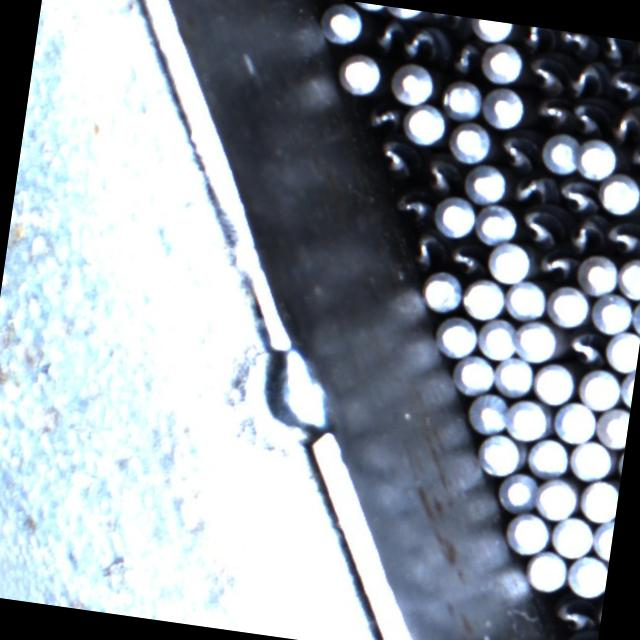tool: (332, 48, 384, 100), (385, 59, 440, 108), (474, 81, 526, 132), (476, 429, 526, 478), (505, 394, 553, 444), (458, 274, 508, 322), (537, 129, 586, 177), (548, 512, 596, 560), (504, 509, 552, 557), (464, 390, 512, 438), (484, 238, 532, 286), (432, 192, 479, 240), (448, 118, 495, 165), (401, 101, 448, 148), (316, 0, 363, 47), (588, 289, 636, 335), (566, 437, 614, 483), (532, 360, 578, 407), (544, 283, 591, 329), (524, 434, 572, 479), (524, 548, 570, 594), (474, 316, 520, 362), (418, 268, 464, 314), (496, 470, 542, 516), (516, 318, 562, 364), (564, 552, 610, 598), (502, 277, 548, 323), (576, 364, 622, 410), (552, 398, 597, 445), (462, 161, 509, 206), (476, 40, 523, 85), (576, 476, 620, 524), (452, 351, 498, 396), (434, 314, 480, 359), (474, 200, 518, 247), (535, 475, 579, 521), (438, 77, 484, 121), (492, 354, 536, 399), (596, 172, 640, 217), (576, 136, 618, 182), (601, 327, 640, 373), (594, 404, 630, 448), (616, 253, 640, 301), (590, 516, 616, 560), (470, 18, 514, 44)
tool_b: (369, 133, 422, 181), (400, 23, 456, 64), (547, 592, 601, 634), (496, 125, 544, 172), (392, 182, 438, 230), (420, 147, 466, 194), (516, 206, 568, 247), (552, 172, 600, 215), (562, 57, 608, 100), (521, 52, 568, 94), (560, 328, 607, 370), (406, 228, 450, 272), (444, 233, 489, 276), (506, 169, 556, 206), (568, 96, 612, 138), (360, 94, 404, 136), (566, 212, 606, 256), (528, 91, 574, 129), (602, 215, 640, 257), (604, 61, 640, 105), (534, 244, 578, 280), (369, 14, 406, 56), (607, 100, 640, 146), (448, 36, 480, 76), (514, 24, 559, 52), (556, 30, 598, 60), (596, 36, 634, 67), (424, 12, 467, 32), (623, 139, 640, 177), (630, 41, 640, 68)
